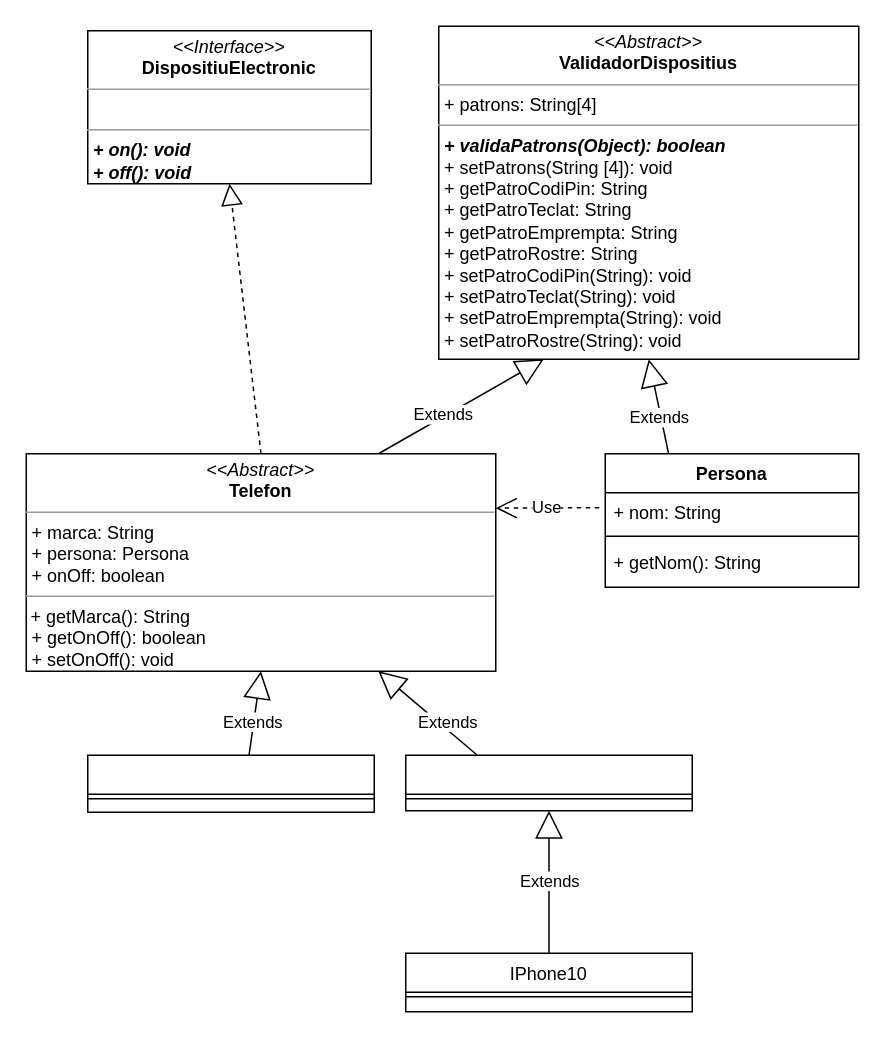
Some shapes in this 885 by 1038 pixel diagram are drawn without their labels. The centre of each missing label's shape, as x and y in pixels:
Android: [230,783]
IPhone8: [548,782]
